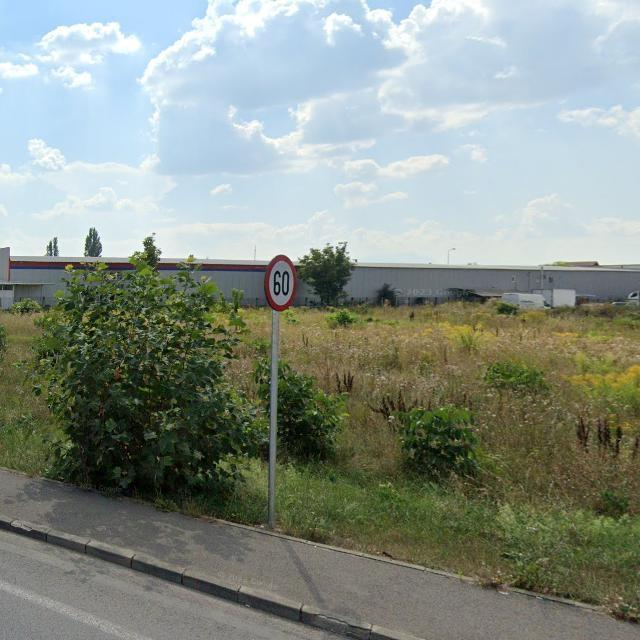forb_speed_over_60: (265, 254, 297, 311)
